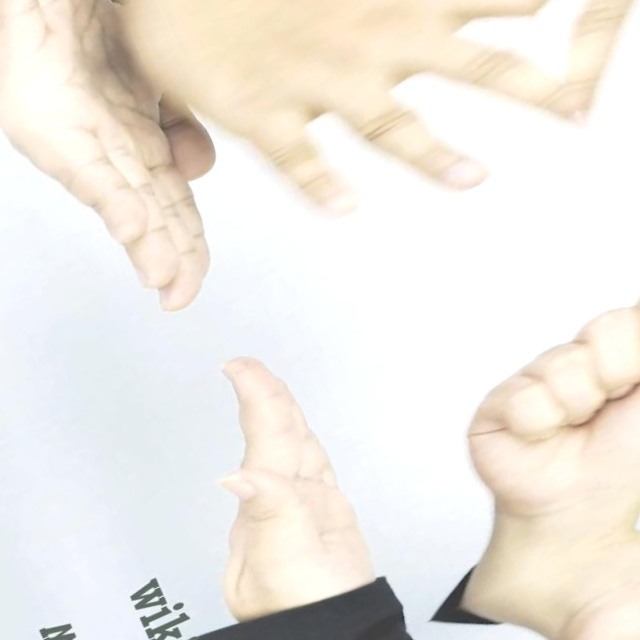Paper: (132, 0, 589, 295)
Rock: (429, 282, 640, 551)
